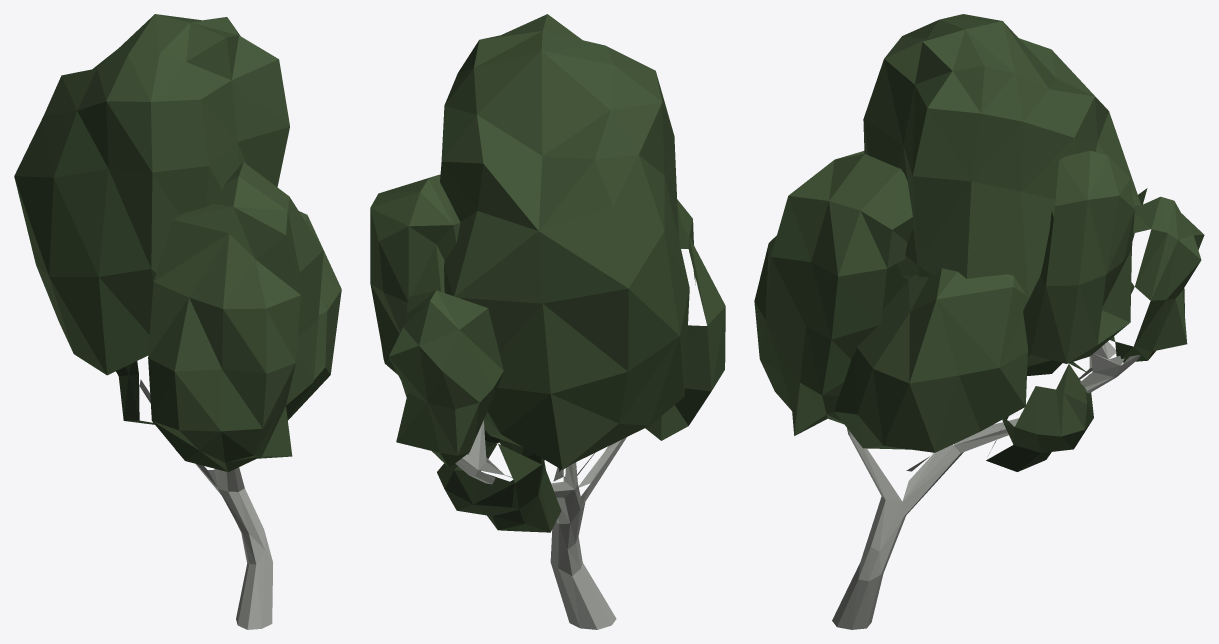
Rendered from BirchTree_1.glb.
3 views of the same model, side by side, from view 1: azimuth 30°, elevation 25°; view 2: azimuth 150°, elevation 25°; view 3: azimuth 270°, elevation 25° (orthographic). The views are drawn at different scales.
Visible parts, largest first — view 1: BirchTree_1_Cube; view 2: BirchTree_1_Cube; view 3: BirchTree_1_Cube.
Boxes of the visible parts, box(x1,y1,x2,y2) form: BirchTree_1_Cube: box(14, 14, 341, 629); BirchTree_1_Cube: box(370, 14, 725, 629); BirchTree_1_Cube: box(754, 14, 1204, 629).
Size of the model in its own units: 1.7 by 3.57 by 2.48.
